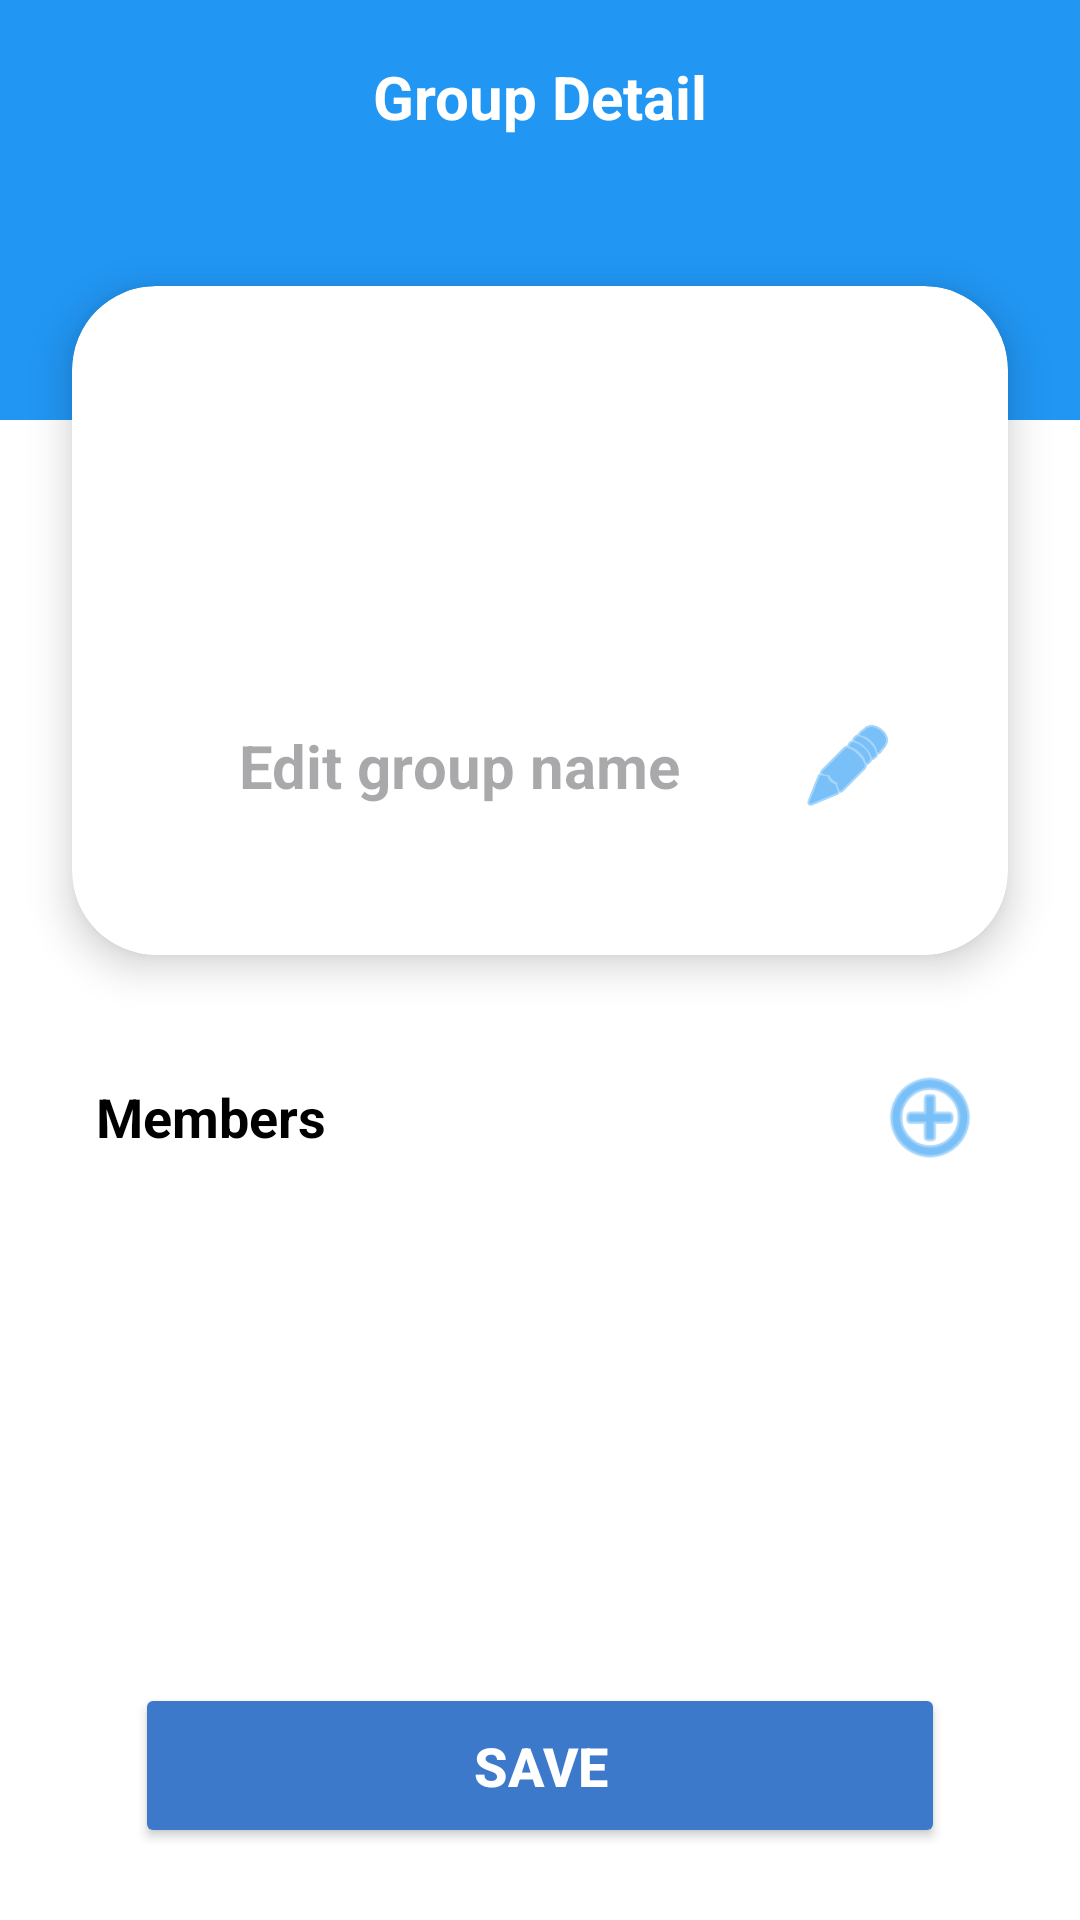

Named icons in this screenshot (1080px×1920px) and their bounding boxes, [x1,y1,x2,y2]:
add: [890,1077,970,1158]
